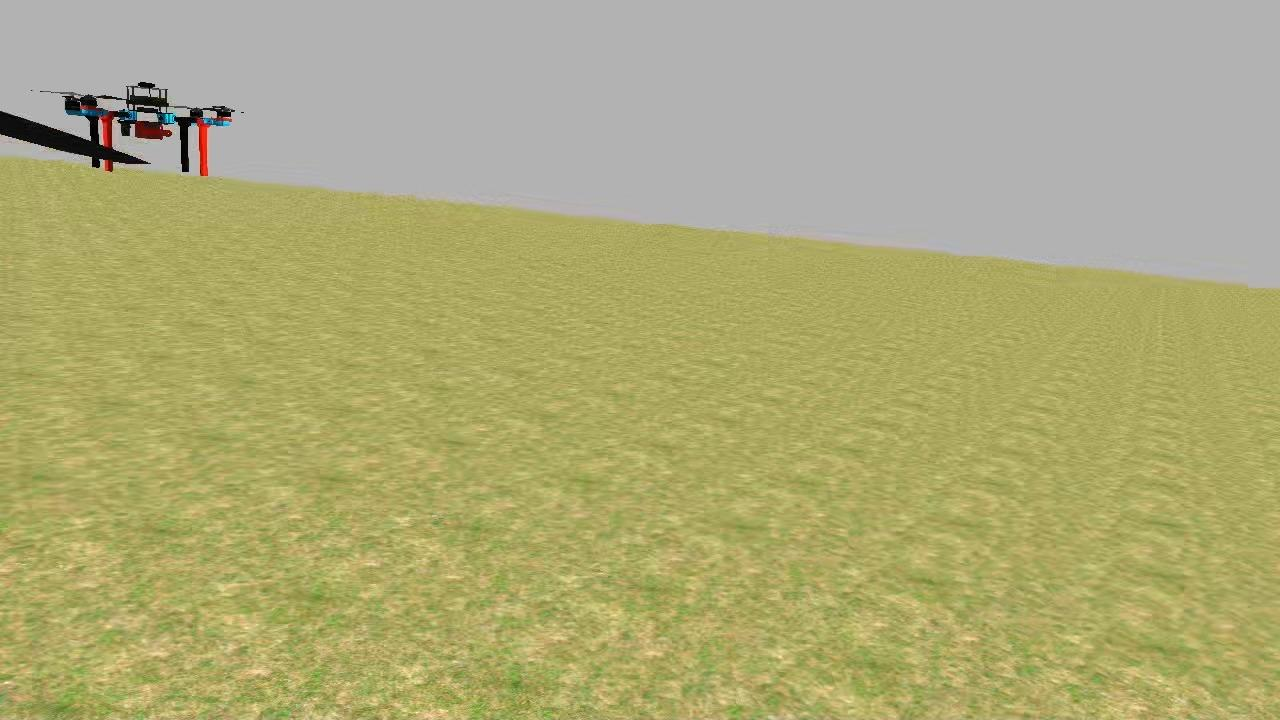UAV: (52, 76, 240, 180)
